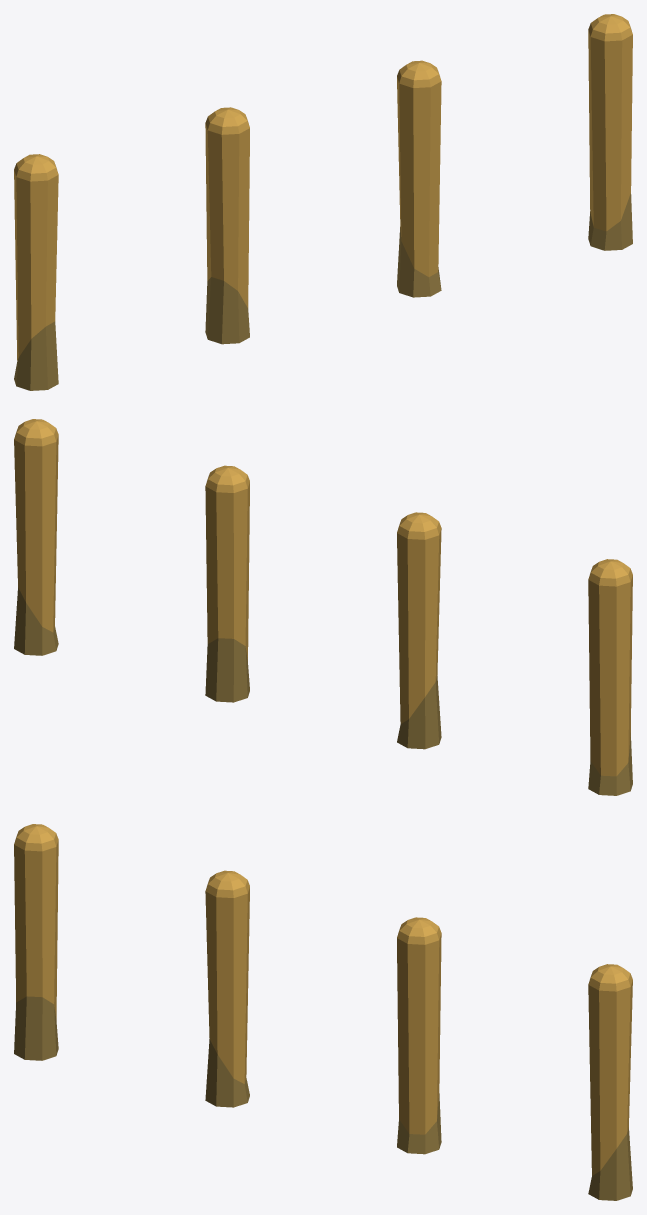
File: SM_Prop_SidewalkPoles_01.fbx
3 renders of one model, top to bottom at view 1: azimuth 30°, elevation 25°; view 2: azimuth 150°, elevation 25°; view 3: azimuth 330°, elevation 25°, orthographic.
Parts seen in each view (by area): view 1: SM_Prop_SidewalkPoles_01; view 2: SM_Prop_SidewalkPoles_01; view 3: SM_Prop_SidewalkPoles_01.
Boxes of the visible parts, <box> form: SM_Prop_SidewalkPoles_01: <box>14,14,632,390</box>; SM_Prop_SidewalkPoles_01: <box>14,419,632,795</box>; SM_Prop_SidewalkPoles_01: <box>14,824,632,1200</box>.
Bounding box in the file's own units: 321 × 112 × 20.93.
